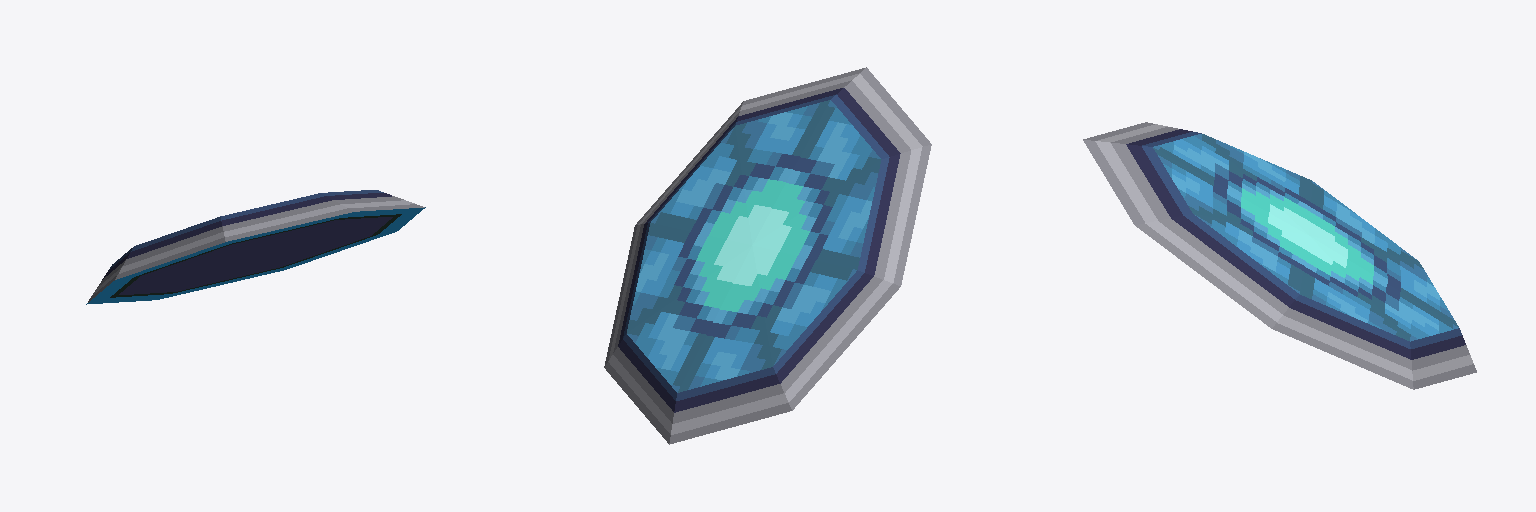
3 renders of one model, left to right at view 1: azimuth 30°, elevation 25°; view 2: azimuth 150°, elevation 25°; view 3: azimuth 270°, elevation 25°, orthographic.
Visible parts, largest first — view 1: w261_ncl1_1; view 2: w261_ncl1_1; view 3: w261_ncl1_1.
Part boxes in pixels (bbox=[...]): w261_ncl1_1: bbox=[86, 190, 425, 304]; w261_ncl1_1: bbox=[604, 67, 931, 444]; w261_ncl1_1: bbox=[1083, 122, 1476, 389].
Size of the model in its own units: 3.53 by 2.86 by 4.39.
1 materials, 1 textured.